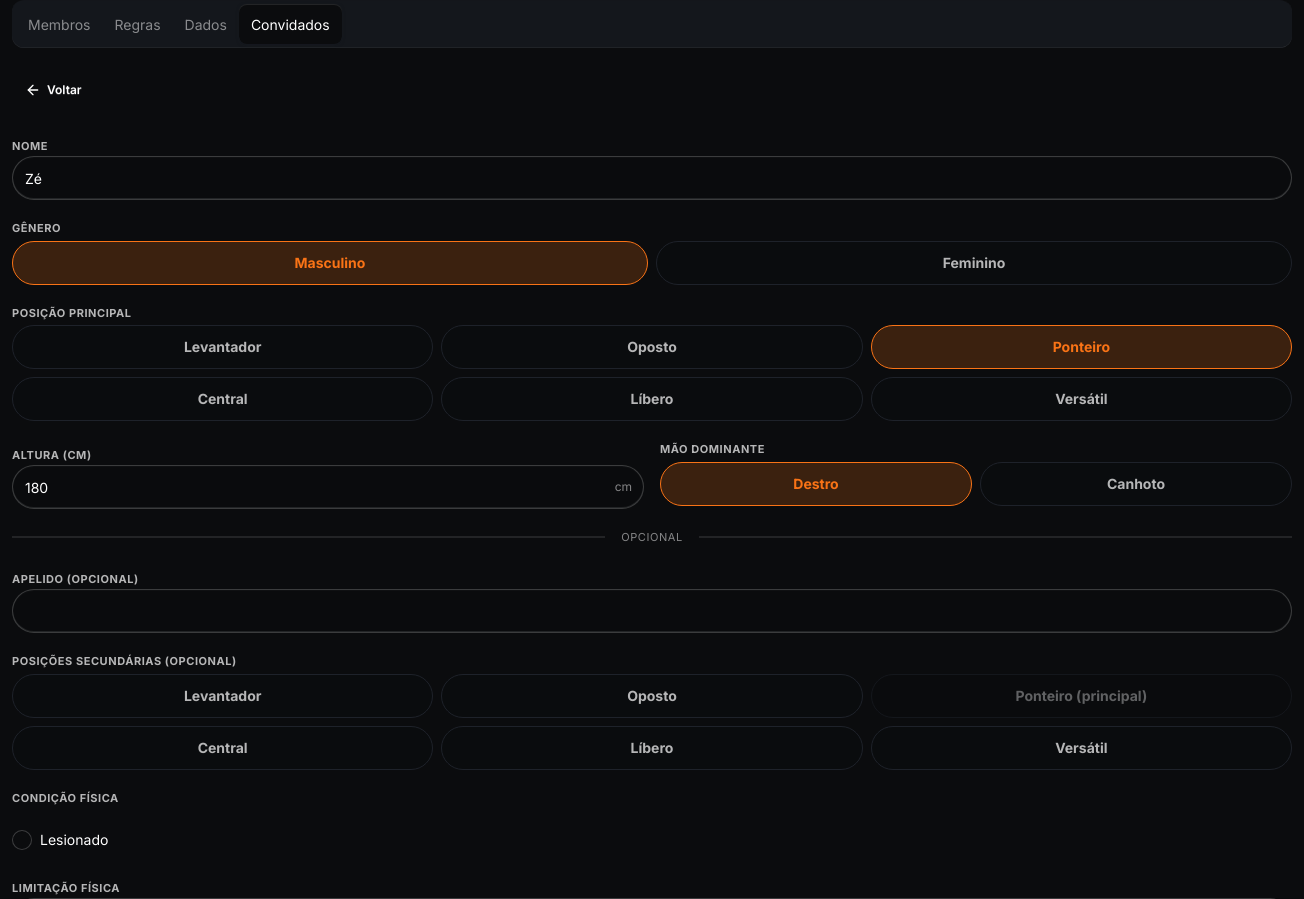
Test: Gestao > Convidados — acesso por papel › Voltar do editor limpa o parametro editar da URL
Expected: the field labelled "Nome" holds "Zé", [12,156,1292,200]
Click the button "Voltar".
click(53, 90)  # box [12,68,95,112]
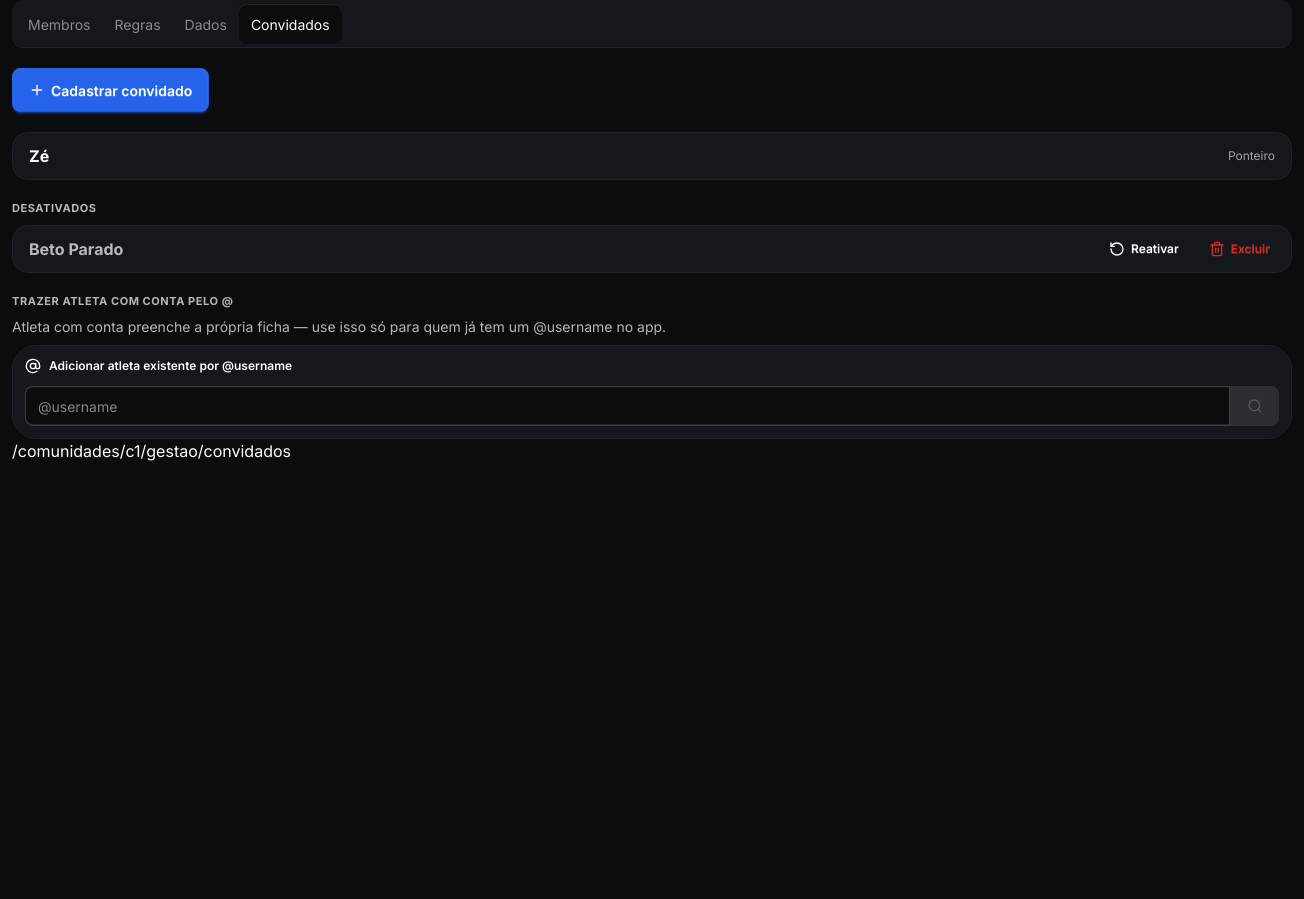
Expected: the button "Cadastrar convidado" is shown, [12,68,209,112]
